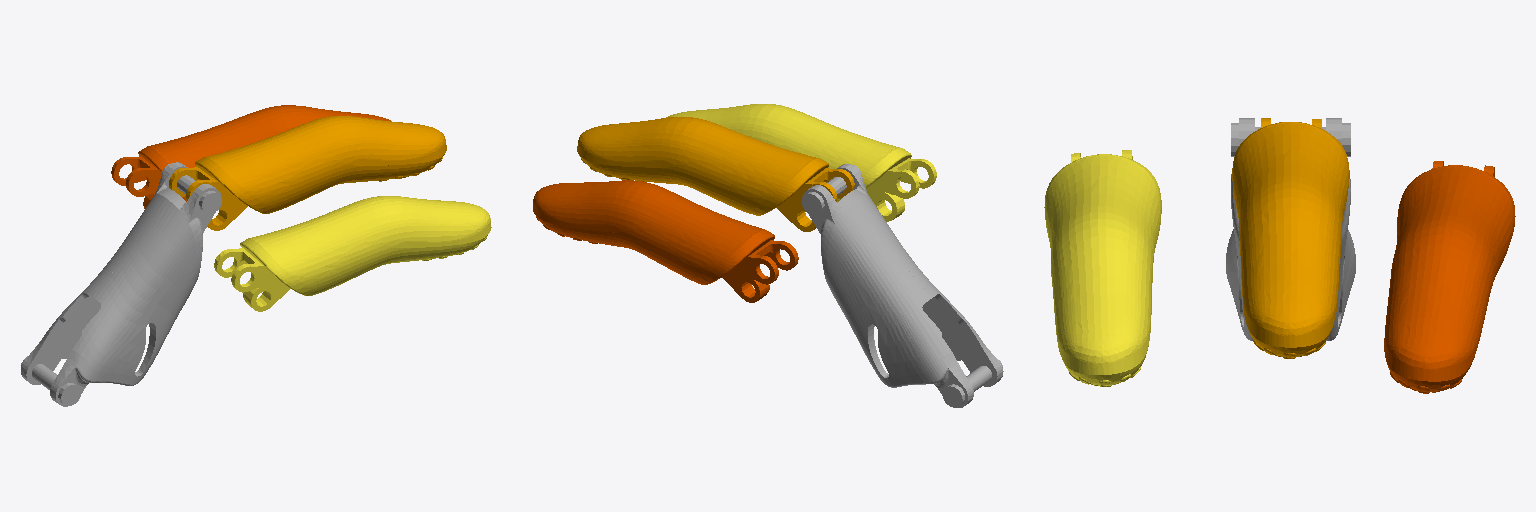
The robot description file, URDF, robot "InspireHand_OY_Right":
<?xml version="1.0" encoding="UTF-8"?>
<robot name="InspireHand_OY_Right">
  <joint name="hand2_joint_link_1_1" type="revolute">
    <origin xyz="0.022705 0.019251 0.047312" rpy="2.9233 0.0081828 -1.5338999"/>
    <parent link="hand2_link_base"/>
    <child link="hand2_link_1_1"/>
    <axis xyz="0. 0. 1."/>
    <limit lower="0." upper="1.5699999" effort="10." velocity="1.364"/>
  </joint>
  <joint name="hand2_joint_link_1_2" type="revolute">
    <origin xyz="-0.015346 -0.00275 -0.017066" rpy="0. -0.19193 0. "/>
    <parent link="hand2_link_1_1"/>
    <child link="hand2_link_1_2"/>
    <axis xyz="0. 1. 0."/>
    <limit lower="0.04" upper="0.6416" effort="10." velocity="1.364"/>
  </joint>
  <joint name="hand2_joint_link_1_3" type="revolute">
    <origin xyz="-0.0088504 -0. -0.045546 " rpy="0. -0.000001 0.0000001"/>
    <parent link="hand2_link_1_2"/>
    <child link="hand2_link_1_3"/>
    <axis xyz="0. 1. 0."/>
    <limit lower="-0.5" upper="0.04" effort="0.0" velocity="0.0"/>
    <mimic joint="hand2_joint_link_1_2" multiplier="0.897606383" offset="-0.535904255" />
  </joint>
  <joint name="hand2_joint_link_1_4" type="fixed">
    <origin xyz="-0.0048034 0. -0.018257 " rpy="-1.5707965 -1.3789037 0.0000038"/>
    <parent link="hand2_link_1_3"/>
    <child link="hand2_link_1_4"/>
  </joint>
  <joint name="hand2_joint_link_2_1" type="revolute">
    <origin xyz="-0.0026645 0.029097 0.1161 " rpy="-3.1415854 -0.06952 -1.6583 "/>
    <parent link="hand2_link_base"/>
    <child link="hand2_link_2_1"/>
    <axis xyz="1. 0. 0."/>
    <limit lower="1.7499999" upper="3.1099998" effort="10." velocity="1.364"/>
  </joint>
  <joint name="hand2_joint_link_2_2" type="revolute">
    <origin xyz="-0. 0. 0.03592" rpy="-0. 0. -0."/>
    <parent link="hand2_link_2_1"/>
    <child link="hand2_link_2_2"/>
    <axis xyz="1. 0. 0."/>
    <limit lower="0.02845" upper="1.5699999" effort="0.0" velocity="0.0"/>
    <mimic joint="hand2_joint_link_2_1" multiplier="1.13349" offset="-1.954170452" />
  </joint>
  <joint name="hand2_joint_link_2_3" type="fixed">
    <origin xyz="0. 0.042819 -0.0094592" rpy="0. 1.5707963 0. "/>
    <parent link="hand2_link_2_2"/>
    <child link="hand2_link_2_3"/>
  </joint>
  <joint name="hand2_joint_link_3_1" type="revolute">
    <origin xyz="-0.0069662 0.0090544 0.1191 " rpy="3.1415854 -0. -1.5708 "/>
    <parent link="hand2_link_base"/>
    <child link="hand2_link_3_1"/>
    <axis xyz="1. 0. 0."/>
    <limit lower="1.7099999" upper="3.0699997" effort="10." velocity="1.364"/>
  </joint>
  <joint name="hand2_joint_link_3_2" type="revolute">
    <origin xyz="0.0000385 0. 0.041004 " rpy="0. 0. 0."/>
    <parent link="hand2_link_3_1"/>
    <child link="hand2_link_3_2"/>
    <axis xyz="1. 0. 0."/>
    <limit lower="0.0688" upper="1.5699999" effort="10." velocity="1.364"/>
    <mimic joint="hand2_joint_link_3_1" multiplier="1.10382" offset="-1.81781665" />
  </joint>
  <joint name="hand2_joint_link_3_3" type="fixed">
    <origin xyz="0.0001296 0.042743 -0.0097963" rpy="-0. 1.5588584 -0.0013742"/>
    <parent link="hand2_link_3_2"/>
    <child link="hand2_link_3_3"/>
  </joint>
  <joint name="hand2_joint_link_4_1" type="revolute">
    <origin xyz="-0.0062162 -0.010944 0.1161 " rpy="-3.1415854 0.069847 -1.5707998"/>
    <parent link="hand2_link_base"/>
    <child link="hand2_link_4_1"/>
    <axis xyz="1. 0. 0."/>
    <limit lower="1.7699998" upper="3.0799999" effort="10." velocity="1.364"/>
  </joint>
  <joint name="hand2_joint_link_4_2" type="revolute">
    <origin xyz="0. 0. 0.03592" rpy="0. -0. -0."/>
    <parent link="hand2_link_4_1"/>
    <child link="hand2_link_4_2"/>
    <axis xyz="1. 0. 0."/>
    <limit lower="0.06" upper="1.5699999" effort="10." velocity="1.364"/>
    <mimic joint="hand2_joint_link_4_1" multiplier="1.15267" offset="-1.979224338" />
  </joint>
  <joint name="hand2_joint_link_4_3" type="fixed">
    <origin xyz="0. 0.042576 -0.010499" rpy="0. 1.5707963 0. "/>
    <parent link="hand2_link_4_2"/>
    <child link="hand2_link_4_3"/>
  </joint>
  <joint name="hand2_joint_link_5_1" type="revolute">
    <origin xyz="-0.0036637 -0.030986 0.11208 " rpy="-3.1415854 0.1312 -1.4827999"/>
    <parent link="hand2_link_base"/>
    <child link="hand2_link_5_1"/>
    <axis xyz="1. 0. 0."/>
    <limit lower="1.73" upper="3.0499999" effort="10." velocity="1.364"/>
  </joint>
  <joint name="hand2_joint_link_5_2" type="revolute">
    <origin xyz="-0. 0. 0.031931" rpy="0. -0. -0."/>
    <parent link="hand2_link_5_1"/>
    <child link="hand2_link_5_2"/>
    <axis xyz="1. 0. 0."/>
    <limit lower="0.09" upper="1.5699999" effort="10." velocity="1.364"/>
    <mimic joint="hand2_joint_link_5_1" multiplier="1.12121" offset="-1.848759431" />
  </joint>
  <joint name="hand2_joint_link_5_3" type="fixed">
    <origin xyz="0. 0.030626 -0.0078064" rpy="0. 1.5707963 0. "/>
    <parent link="hand2_link_5_2"/>
    <child link="hand2_link_5_3"/>
  </joint>
  <link name="hand2_link_1_1">
    <inertial>
      <origin xyz="0. 0. 0." rpy="0. 0. 0."/>
      <mass value="0.0059741"/>
      <inertia ixx="0." ixy="0." ixz="0." iyy="0." iyz="0." izz="0."/>
    </inertial>
    <visual>
      <origin xyz="0. 0. 0." rpy="0. 0. 0."/>
      <geometry>
        <mesh filename="meshes/hand2_link_1_1_visuals.obj" scale="1. 1. 1."/>
      </geometry>
    </visual>
    <collision>
      <origin xyz="0. 0. 0." rpy="0. 0. 0."/>
      <geometry>
        <mesh filename="meshes/hand2_link_1_1_collisions.obj" scale="1. 1. 1."/>
      </geometry>
    </collision>
  </link>
  <link name="hand2_link_1_2">
    <inertial>
      <origin xyz="0. 0. 0." rpy="0. 0. 0."/>
      <mass value="0.022429"/>
      <inertia ixx="0." ixy="0." ixz="0." iyy="0." iyz="0." izz="0."/>
    </inertial>
    <visual>
      <origin xyz="0. -0. -0." rpy="0. -0.000001 0.0000001"/>
      <geometry>
        <mesh filename="meshes/hand2_link_1_2_visuals.obj" scale="1. 1. 1."/>
      </geometry>
    </visual>
    <collision>
      <origin xyz="0. -0. -0." rpy="0. -0.000001 0.0000001"/>
      <geometry>
        <mesh filename="meshes/hand2_link_1_2_collisions.obj" scale="1. 1. 1."/>
      </geometry>
    </collision>
  </link>
  <link name="hand2_link_1_3">
    <inertial>
      <origin xyz="0. 0. 0." rpy="0. 0. 0."/>
      <mass value="0.0022502"/>
      <inertia ixx="0." ixy="0." ixz="0." iyy="0." iyz="0." izz="0."/>
    </inertial>
    <visual>
      <origin xyz="0. 0. 0." rpy="0. 0. 0."/>
      <geometry>
        <mesh filename="meshes/hand2_link_1_3_visuals.obj" scale="1. 1. 1."/>
      </geometry>
    </visual>
    <collision>
      <origin xyz="0. 0. 0." rpy="0. 0. 0."/>
      <geometry>
        <mesh filename="meshes/hand2_link_1_3_collisions.obj" scale="1. 1. 1."/>
      </geometry>
    </collision>
  </link>
  <link name="hand2_link_1_4">
    <inertial>
      <origin xyz="0. 0. 0." rpy="0. 0. 0."/>
      <mass value="0.0000002"/>
      <inertia ixx="0." ixy="0." ixz="0." iyy="0." iyz="0." izz="0."/>
    </inertial>
    <visual>
      <origin xyz="0. 0. 0." rpy="-0. -1.5707963 0. "/>
      <geometry>
        <mesh filename="meshes/hand2_link_1_4_visuals.obj" scale="1. 1. 1."/>
      </geometry>
    </visual>
    <collision>
      <origin xyz="0. 0. 0." rpy="-0. -1.5707963 0. "/>
      <geometry>
        <mesh filename="meshes/hand2_link_1_4_collisions.obj" scale="1. 1. 1."/>
      </geometry>
    </collision>
  </link>
  <link name="hand2_link_2_1">
    <inertial>
      <origin xyz="0. 0. 0." rpy="0. 0. 0."/>
      <mass value="0.0059375"/>
      <inertia ixx="0." ixy="0." ixz="0." iyy="0." iyz="0." izz="0."/>
    </inertial>
    <visual>
      <origin xyz="0. 0. 0." rpy="0. 0. 0."/>
      <geometry>
        <mesh filename="meshes/hand2_link_2_1_visuals.obj" scale="1. 1. 1."/>
      </geometry>
    </visual>
    <collision>
      <origin xyz="0. 0. 0." rpy="0. 0. 0."/>
      <geometry>
        <mesh filename="meshes/hand2_link_2_1_collisions.obj" scale="1. 1. 1."/>
      </geometry>
    </collision>
  </link>
  <link name="hand2_link_2_2">
    <inertial>
      <origin xyz="0. 0. 0." rpy="0. 0. 0."/>
      <mass value="0.012005"/>
      <inertia ixx="0." ixy="0." ixz="0." iyy="0." iyz="0." izz="0."/>
    </inertial>
    <visual>
      <origin xyz="0. 0. 0." rpy="0. 0. 0."/>
      <geometry>
        <mesh filename="meshes/hand2_link_2_2_visuals.obj" scale="1. 1. 1."/>
      </geometry>
    </visual>
    <collision>
      <origin xyz="0. 0. 0." rpy="0. 0. 0."/>
      <geometry>
        <mesh filename="meshes/hand2_link_2_2_collisions.obj" scale="1. 1. 1."/>
      </geometry>
    </collision>
  </link>
  <link name="hand2_link_2_3">
    <inertial>
      <origin xyz="0. 0. 0." rpy="0. 0. 0."/>
      <mass value="0.0000002"/>
      <inertia ixx="0." ixy="0." ixz="0." iyy="0." iyz="0." izz="0."/>
    </inertial>
    <visual>
      <origin xyz="0. 0. -0." rpy="-0.1432237 -1.5707961 0.1432237"/>
      <geometry>
        <mesh filename="meshes/hand2_link_2_3_visuals.obj" scale="1. 1. 1."/>
      </geometry>
    </visual>
    <collision>
      <origin xyz="0. 0. -0." rpy="-0.1432237 -1.5707961 0.1432237"/>
      <geometry>
        <mesh filename="meshes/hand2_link_2_3_collisions.obj" scale="1. 1. 1."/>
      </geometry>
    </collision>
  </link>
  <link name="hand2_link_3_1">
    <inertial>
      <origin xyz="0. 0. 0." rpy="0. 0. 0."/>
      <mass value="0.0067573"/>
      <inertia ixx="0." ixy="0." ixz="0." iyy="0." iyz="0." izz="0."/>
    </inertial>
    <visual>
      <origin xyz="0. 0. 0." rpy="0. 0. 0."/>
      <geometry>
        <mesh filename="meshes/hand2_link_3_1_visuals.obj" scale="1. 1. 1."/>
      </geometry>
    </visual>
    <collision>
      <origin xyz="0. 0. 0." rpy="0. 0. 0."/>
      <geometry>
        <mesh filename="meshes/hand2_link_3_1_collisions.obj" scale="1. 1. 1."/>
      </geometry>
    </collision>
  </link>
  <link name="hand2_link_3_2">
    <inertial>
      <origin xyz="0. 0. 0." rpy="0. 0. 0."/>
      <mass value="0.012005"/>
      <inertia ixx="0." ixy="0." ixz="0." iyy="0." iyz="0." izz="0."/>
    </inertial>
    <visual>
      <origin xyz="0. 0. 0." rpy="0. 0. 0."/>
      <geometry>
        <mesh filename="meshes/hand2_link_3_2_visuals.obj" scale="1. 1. 1."/>
      </geometry>
    </visual>
    <collision>
      <origin xyz="0. 0. 0." rpy="0. 0. 0."/>
      <geometry>
        <mesh filename="meshes/hand2_link_3_2_collisions.obj" scale="1. 1. 1."/>
      </geometry>
    </collision>
  </link>
  <link name="hand2_link_3_3">
    <inertial>
      <origin xyz="0. 0. 0." rpy="0. 0. 0."/>
      <mass value="0.0000002"/>
      <inertia ixx="0." ixy="0." ixz="0." iyy="0." iyz="0." izz="0."/>
    </inertial>
    <visual>
      <origin xyz="-0. -0. -0." rpy="-0. -1.5707963 0. "/>
      <geometry>
        <mesh filename="meshes/hand2_link_3_3_visuals.obj" scale="1. 1. 1."/>
      </geometry>
    </visual>
    <collision>
      <origin xyz="-0. -0. -0." rpy="-0. -1.5707963 0. "/>
      <geometry>
        <mesh filename="meshes/hand2_link_3_3_collisions.obj" scale="1. 1. 1."/>
      </geometry>
    </collision>
  </link>
  <link name="hand2_link_4_1">
    <inertial>
      <origin xyz="0. 0. 0." rpy="0. 0. 0."/>
      <mass value="0.0059375"/>
      <inertia ixx="0." ixy="0." ixz="0." iyy="0." iyz="0." izz="0."/>
    </inertial>
    <visual>
      <origin xyz="0. 0. 0." rpy="0. 0. 0."/>
      <geometry>
        <mesh filename="meshes/hand2_link_4_1_visuals.obj" scale="1. 1. 1."/>
      </geometry>
    </visual>
    <collision>
      <origin xyz="0. 0. 0." rpy="0. 0. 0."/>
      <geometry>
        <mesh filename="meshes/hand2_link_4_1_collisions.obj" scale="1. 1. 1."/>
      </geometry>
    </collision>
  </link>
  <link name="hand2_link_4_2">
    <inertial>
      <origin xyz="0. 0. 0." rpy="0. 0. 0."/>
      <mass value="0.012005"/>
      <inertia ixx="0." ixy="0." ixz="0." iyy="0." iyz="0." izz="0."/>
    </inertial>
    <visual>
      <origin xyz="0. 0. 0." rpy="0. 0. 0."/>
      <geometry>
        <mesh filename="meshes/hand2_link_4_2_visuals.obj" scale="1. 1. 1."/>
      </geometry>
    </visual>
    <collision>
      <origin xyz="0. 0. 0." rpy="0. 0. 0."/>
      <geometry>
        <mesh filename="meshes/hand2_link_4_2_collisions.obj" scale="1. 1. 1."/>
      </geometry>
    </collision>
  </link>
  <link name="hand2_link_4_3">
    <inertial>
      <origin xyz="0. 0. 0." rpy="0. 0. 0."/>
      <mass value="0.0000002"/>
      <inertia ixx="0." ixy="0." ixz="0." iyy="0." iyz="0." izz="0."/>
    </inertial>
    <visual>
      <origin xyz="0. 0. 0." rpy="-0.2722736 -1.5707961 0.2722736"/>
      <geometry>
        <mesh filename="meshes/hand2_link_4_3_visuals.obj" scale="1. 1. 1."/>
      </geometry>
    </visual>
    <collision>
      <origin xyz="0. 0. 0." rpy="-0.2722736 -1.5707961 0.2722736"/>
      <geometry>
        <mesh filename="meshes/hand2_link_4_3_collisions.obj" scale="1. 1. 1."/>
      </geometry>
    </collision>
  </link>
  <link name="hand2_link_5_1">
    <inertial>
      <origin xyz="0. 0. 0." rpy="0. 0. 0."/>
      <mass value="0.0067858"/>
      <inertia ixx="0." ixy="0." ixz="0." iyy="0." iyz="0." izz="0."/>
    </inertial>
    <visual>
      <origin xyz="0. 0. 0." rpy="0. 0. 0."/>
      <geometry>
        <mesh filename="meshes/hand2_link_5_1_visuals.obj" scale="1. 1. 1."/>
      </geometry>
    </visual>
    <collision>
      <origin xyz="0. 0. 0." rpy="0. 0. 0."/>
      <geometry>
        <mesh filename="meshes/hand2_link_5_1_collisions.obj" scale="1. 1. 1."/>
      </geometry>
    </collision>
  </link>
  <link name="hand2_link_5_2">
    <inertial>
      <origin xyz="0. 0. 0." rpy="0. 0. 0."/>
      <mass value="0.0071123"/>
      <inertia ixx="0." ixy="0." ixz="0." iyy="0." iyz="0." izz="0."/>
    </inertial>
    <visual>
      <origin xyz="0. 0. 0." rpy="0. 0. 0."/>
      <geometry>
        <mesh filename="meshes/hand2_link_5_2_visuals.obj" scale="1. 1. 1."/>
      </geometry>
    </visual>
    <collision>
      <origin xyz="0. 0. 0." rpy="0. 0. 0."/>
      <geometry>
        <mesh filename="meshes/hand2_link_5_2_collisions.obj" scale="1. 1. 1."/>
      </geometry>
    </collision>
  </link>
  <link name="hand2_link_5_3">
    <inertial>
      <origin xyz="0. 0. 0." rpy="0. 0. 0."/>
      <mass value="0.0000002"/>
      <inertia ixx="0." ixy="0." ixz="0." iyy="0." iyz="0." izz="0."/>
    </inertial>
    <visual>
      <origin xyz="0. 0. 0." rpy="0.19822 -1.5707961 -0.19822 "/>
      <geometry>
        <mesh filename="meshes/hand2_link_5_3_visuals.obj" scale="1. 1. 1."/>
      </geometry>
    </visual>
    <collision>
      <origin xyz="0. 0. 0." rpy="0.19822 -1.5707961 -0.19822 "/>
      <geometry>
        <mesh filename="meshes/hand2_link_5_3_collisions.obj" scale="1. 1. 1."/>
      </geometry>
    </collision>
  </link>
  <link name="hand2_link_base">
    <inertial>
      <origin xyz="0. 0. 0." rpy="0. 0. 0."/>
      <mass value="0.23518"/>
      <inertia ixx="0." ixy="0." ixz="0." iyy="0." iyz="0." izz="0."/>
    </inertial>
    <visual>
      <origin xyz="0. 0. 0." rpy="0. 0. 0."/>
      <geometry>
        <mesh filename="meshes/hand2_link_base_visuals.obj" scale="1. 1. 1."/>
      </geometry>
    </visual>
    <collision>
      <origin xyz="0. 0. 0." rpy="0. 0. 0."/>
      <geometry>
        <mesh filename="meshes/hand2_link_base_collisions.obj" scale="1. 1. 1."/>
      </geometry>
    </collision>
  </link>
</robot>

--- Facts derived from the render (not from the file) ---
Views: 3 orthographic renders of the robot side by side, from view 1: azimuth 30°, elevation 25°; view 2: azimuth 150°, elevation 25°; view 3: azimuth 270°, elevation 25°.
Robot: InspireHand_OY_Right — 17 links, 16 joints (11 revolute, 5 fixed); root link hand2_link_base; default pose: all joints at 0 but 9 set to mid-range because 0 is outside their limits (hand2_joint_link_1_2 = 0.3408, hand2_joint_link_1_3 = -0.23, hand2_joint_link_2_1 = 2.43, hand2_joint_link_2_2 = 0.8002, hand2_joint_link_3_1 = 2.39, hand2_joint_link_3_2 = 0.8203, +3 more).
Visible links, largest first — view 1: hand2_link_3_1, hand2_link_4_2, hand2_link_3_2, hand2_link_2_2; view 2: hand2_link_3_1, hand2_link_2_2, hand2_link_3_2, hand2_link_4_2; view 3: hand2_link_3_2, hand2_link_4_2, hand2_link_2_2, hand2_link_3_1.
Boxes of the visible links, bbox=[...] form: hand2_link_3_1: bbox=[21, 162, 221, 406]; hand2_link_4_2: bbox=[214, 196, 491, 311]; hand2_link_3_2: bbox=[169, 116, 446, 230]; hand2_link_2_2: bbox=[111, 105, 390, 208]; hand2_link_3_1: bbox=[802, 164, 1003, 407]; hand2_link_2_2: bbox=[533, 180, 798, 302]; hand2_link_3_2: bbox=[577, 117, 854, 231]; hand2_link_4_2: bbox=[666, 104, 936, 221]; hand2_link_3_2: bbox=[1232, 118, 1349, 358]; hand2_link_4_2: bbox=[1044, 150, 1161, 386]; hand2_link_2_2: bbox=[1384, 161, 1515, 393]; hand2_link_3_1: bbox=[1226, 118, 1355, 340].
Size in the robot's own frame: 0.0807 by 0.0547 by 0.0391 metres.
5 mesh visuals loaded from 17 distinct referenced files (5 OBJ); not drawn: 12 (reference not matched to a file when rendering).